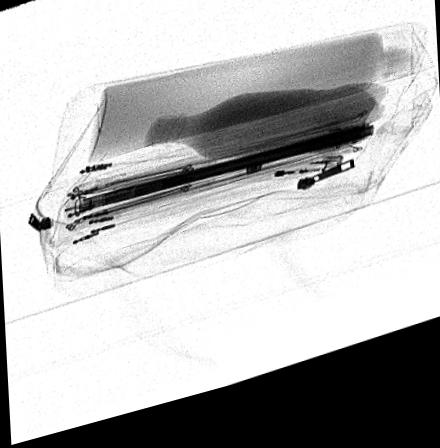Lighter: (236, 173, 344, 197)
